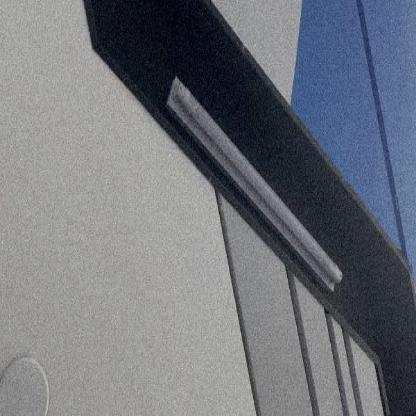light_off: (160, 52, 345, 318)
